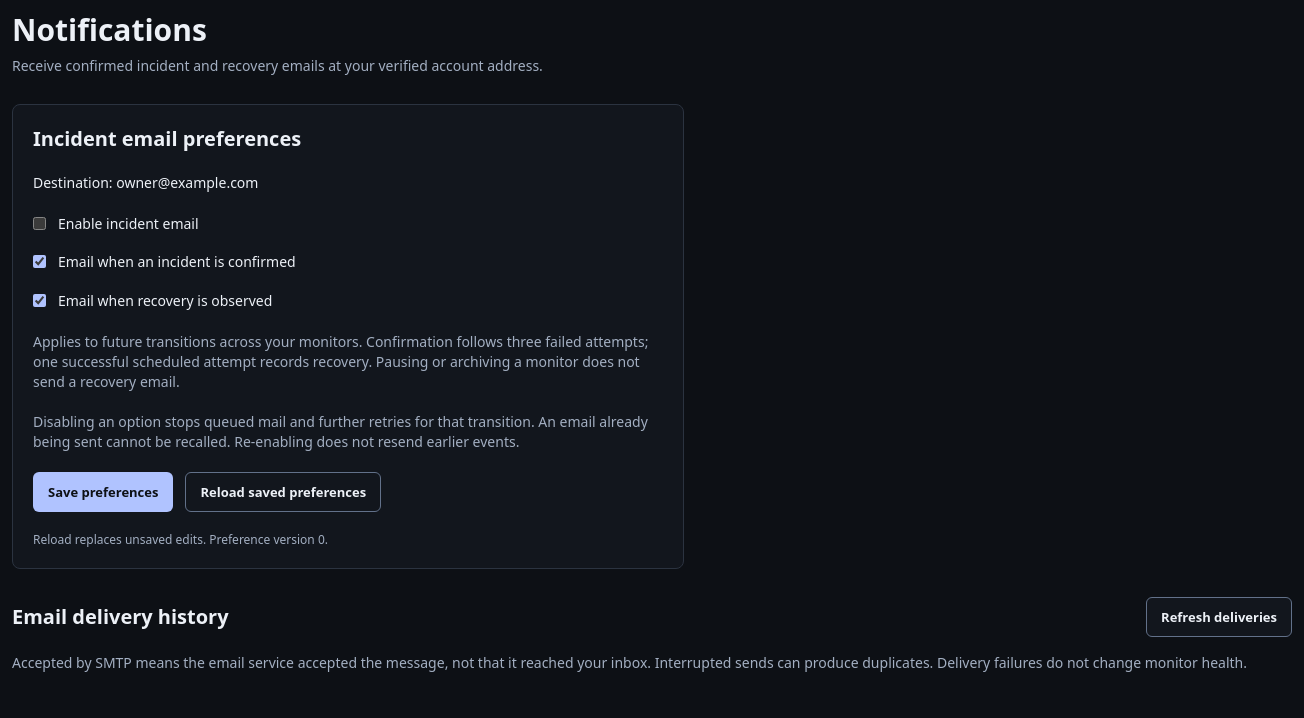
preserves a conflicting draft until an explicit reload
Click the checkbox labelled "Enable incident email" at point(40, 224), box x1=33 y1=217 x2=46 y2=230
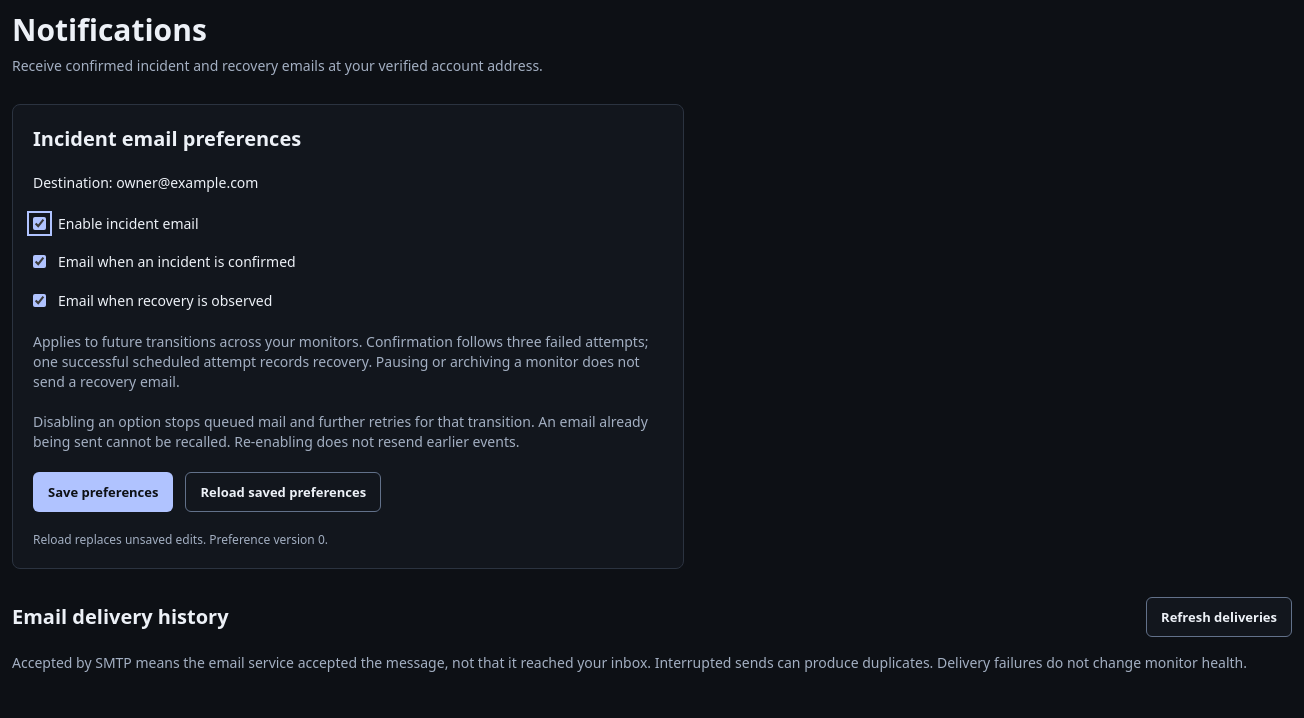
Click the button "Save preferences" at point(103, 492), box x1=33 y1=472 x2=173 y2=512
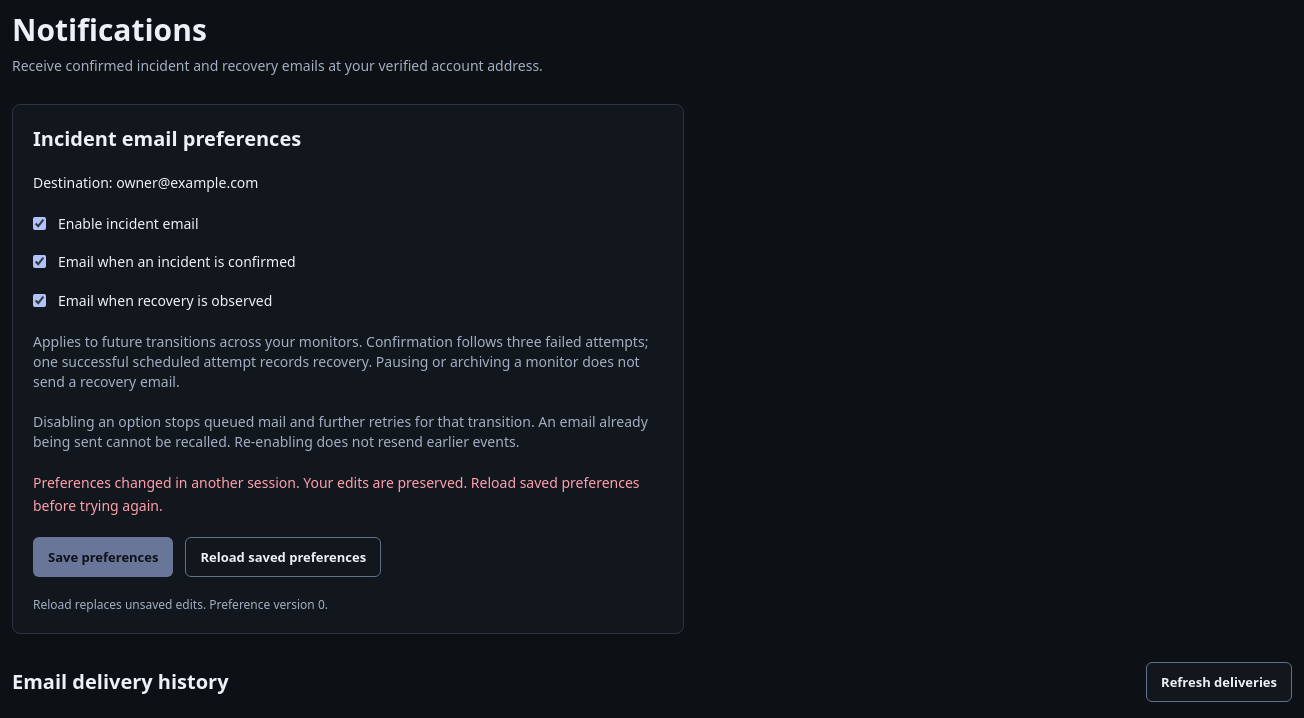
Result: the checkbox labelled "Enable incident email" is checked at x1=33 y1=217 x2=46 y2=230
Result: the message shows "Your edits are preserved" at x1=33 y1=473 x2=640 y2=515
Result: the button "Save preferences" is disabled at x1=33 y1=537 x2=173 y2=577
Click the button "Reload saved preferences" at point(283, 557), box x1=185 y1=537 x2=381 y2=577
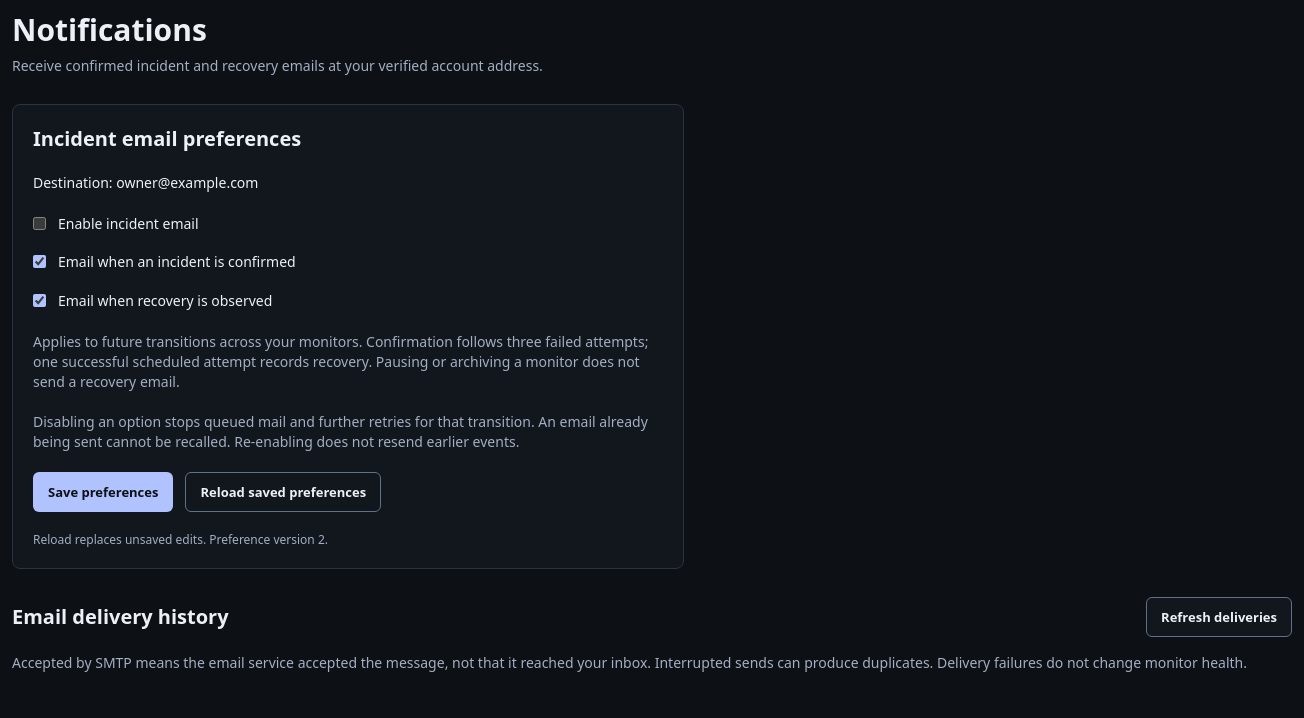
Result: the checkbox labelled "Enable incident email" is not checked at x1=33 y1=217 x2=46 y2=230
